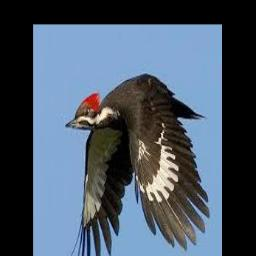Woodpecker: (66, 73, 210, 256)
